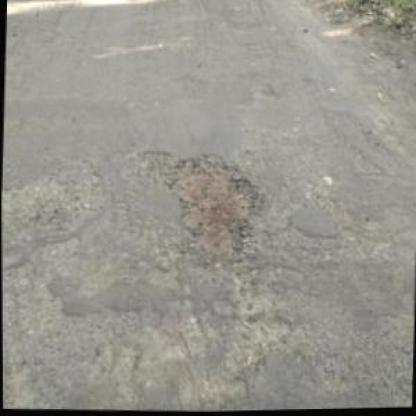pothole: (129, 146, 266, 266)
